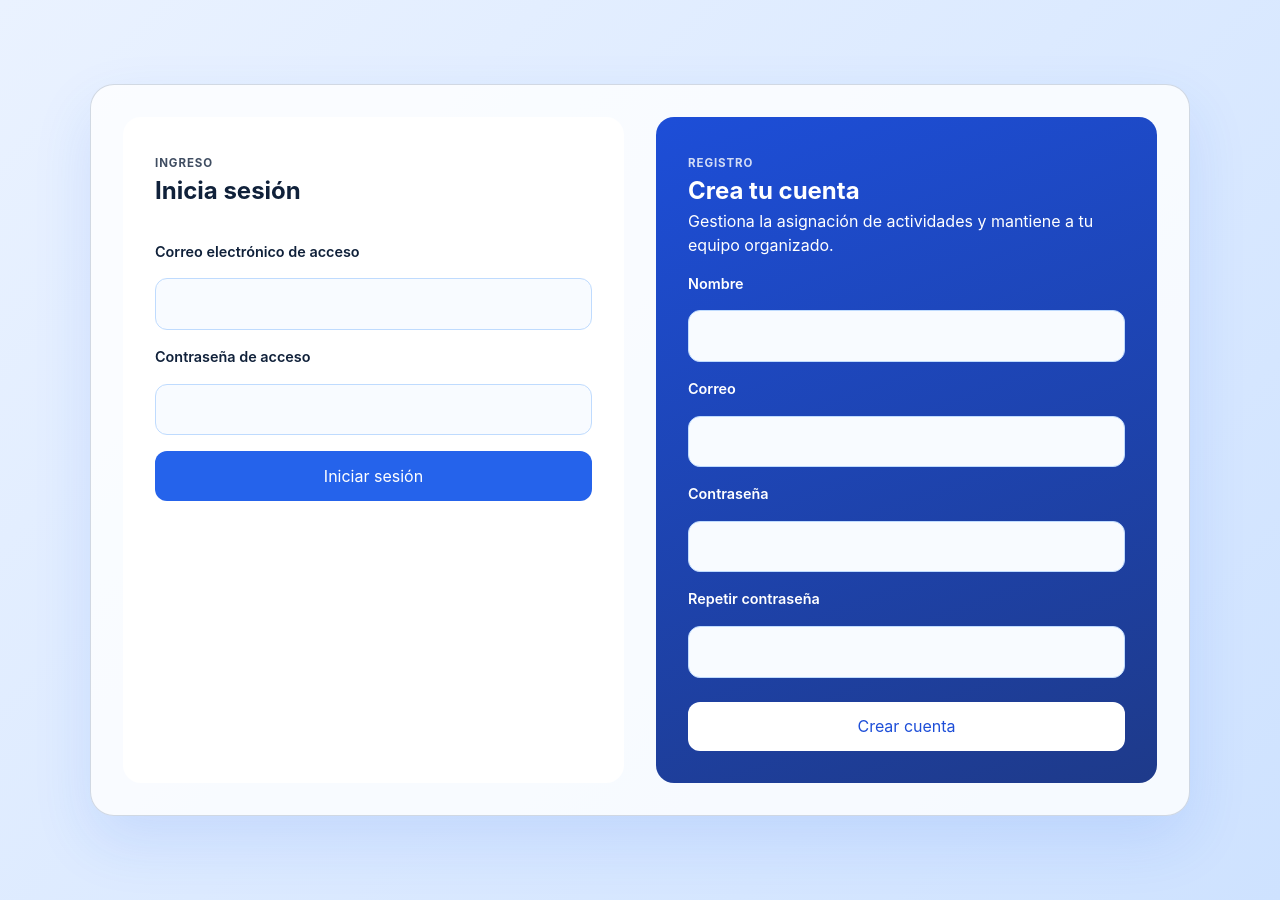
App › confirma un registro válido y limpia el formulario
The image size is (1280, 900).
Type "Ana Pérez" into the field labelled "Nombre" at coordinates (906, 336), box [688,310,1125,362]
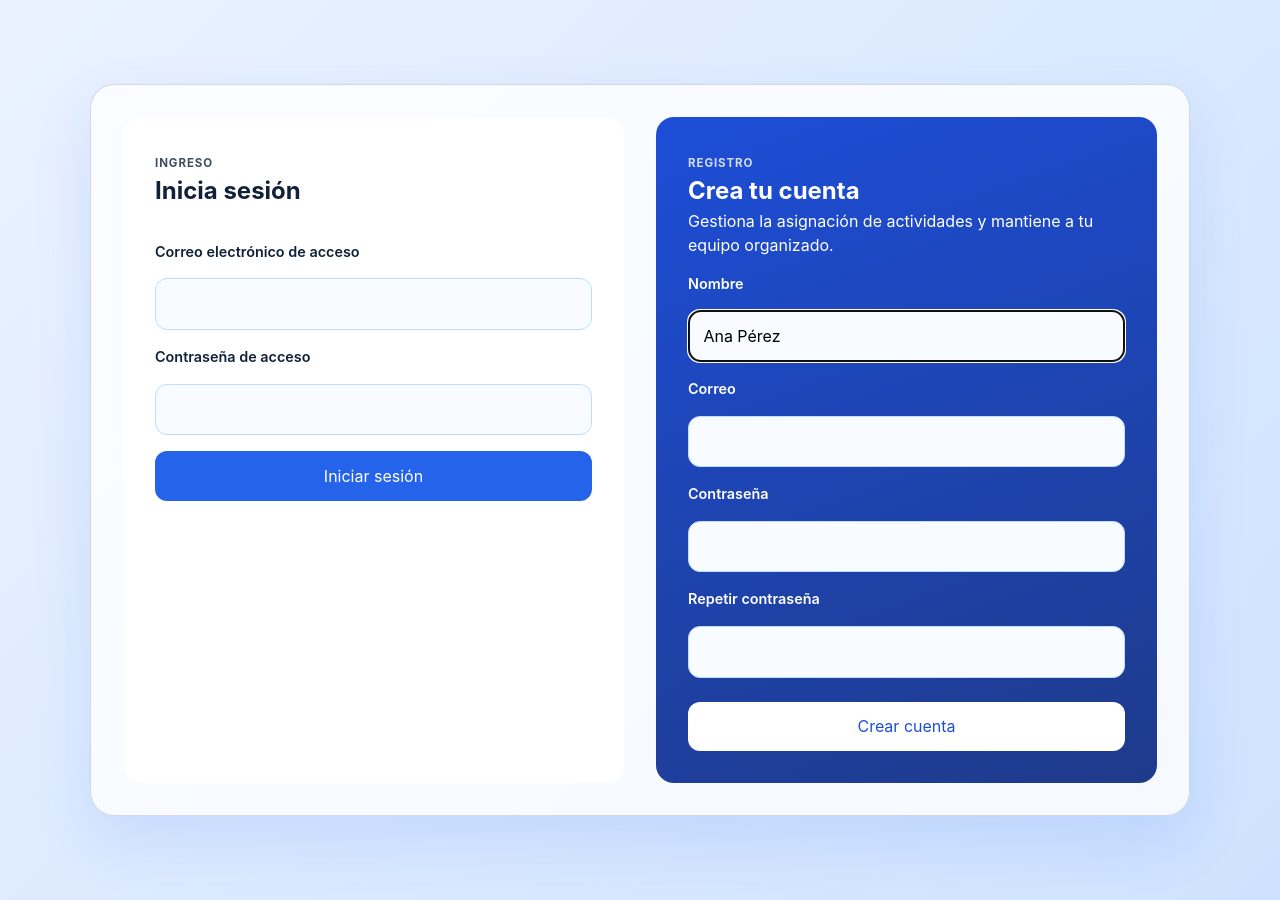
Type "ana@example.com" into the field labelled "Correo" at coordinates (906, 441), box [688,416,1125,467]
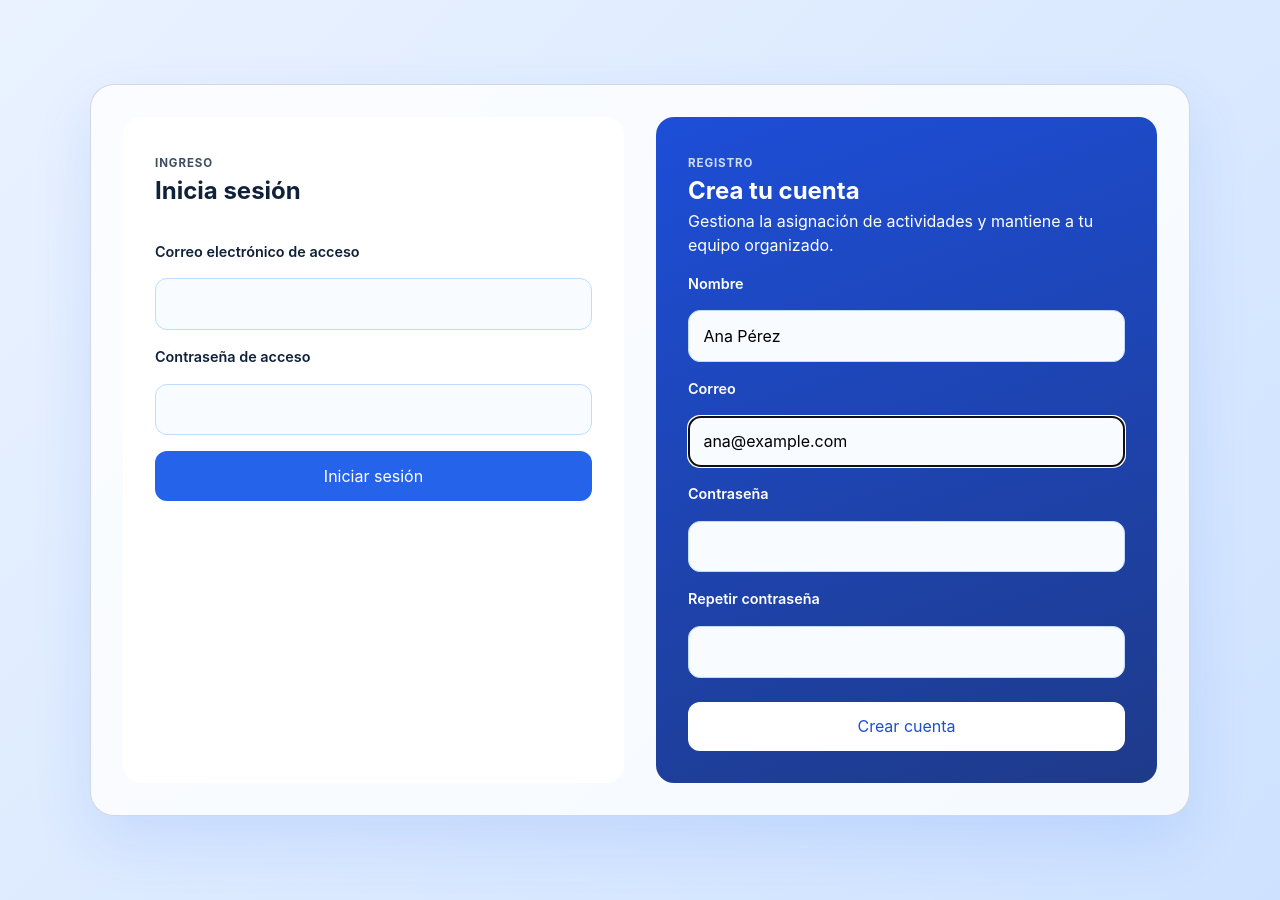
Type "Password123" into the password field labelled "Contraseña" at coordinates (906, 547), box [688,521,1125,572]
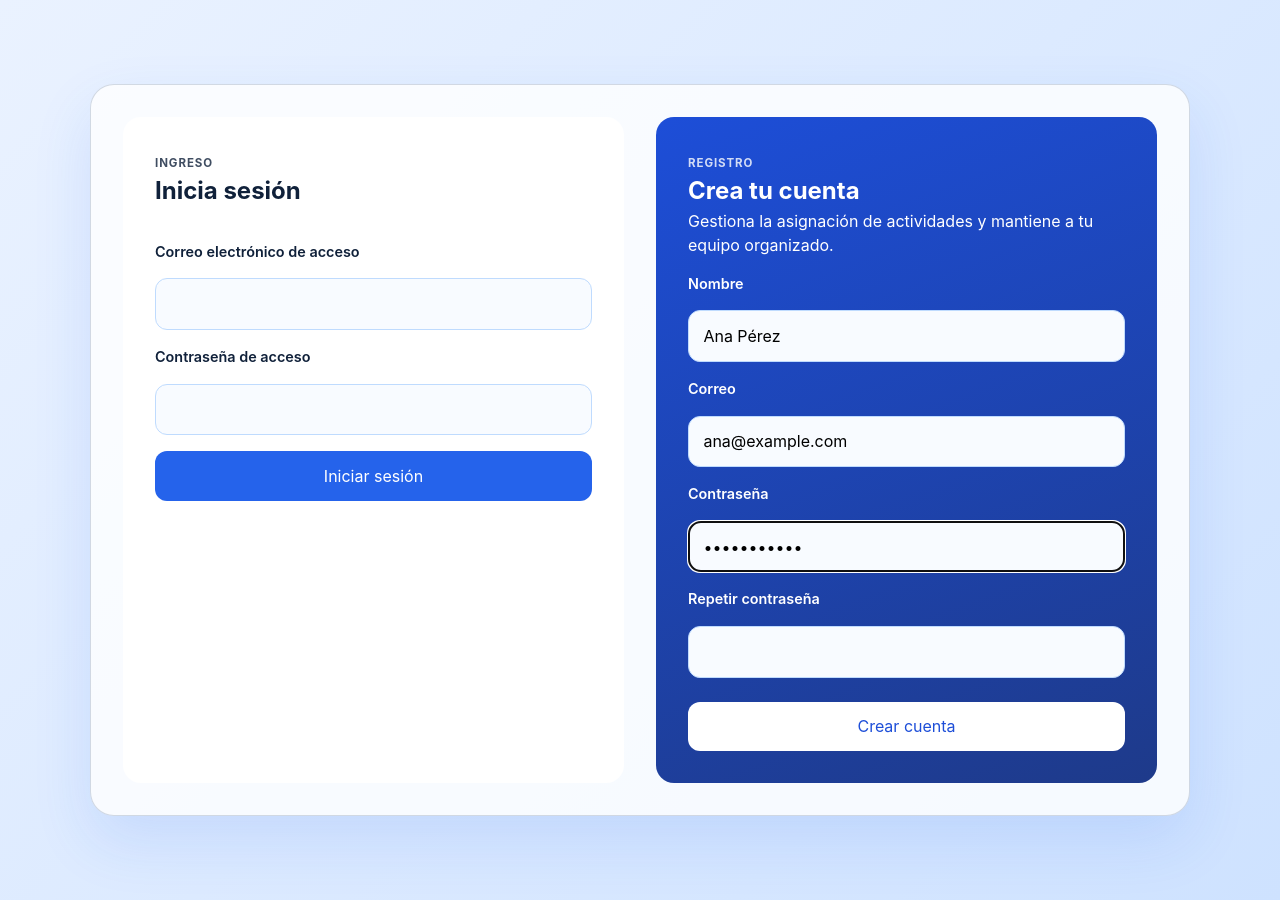
Type "Password123" into the password field labelled "Repetir contraseña" at coordinates (906, 652), box [688,626,1125,678]
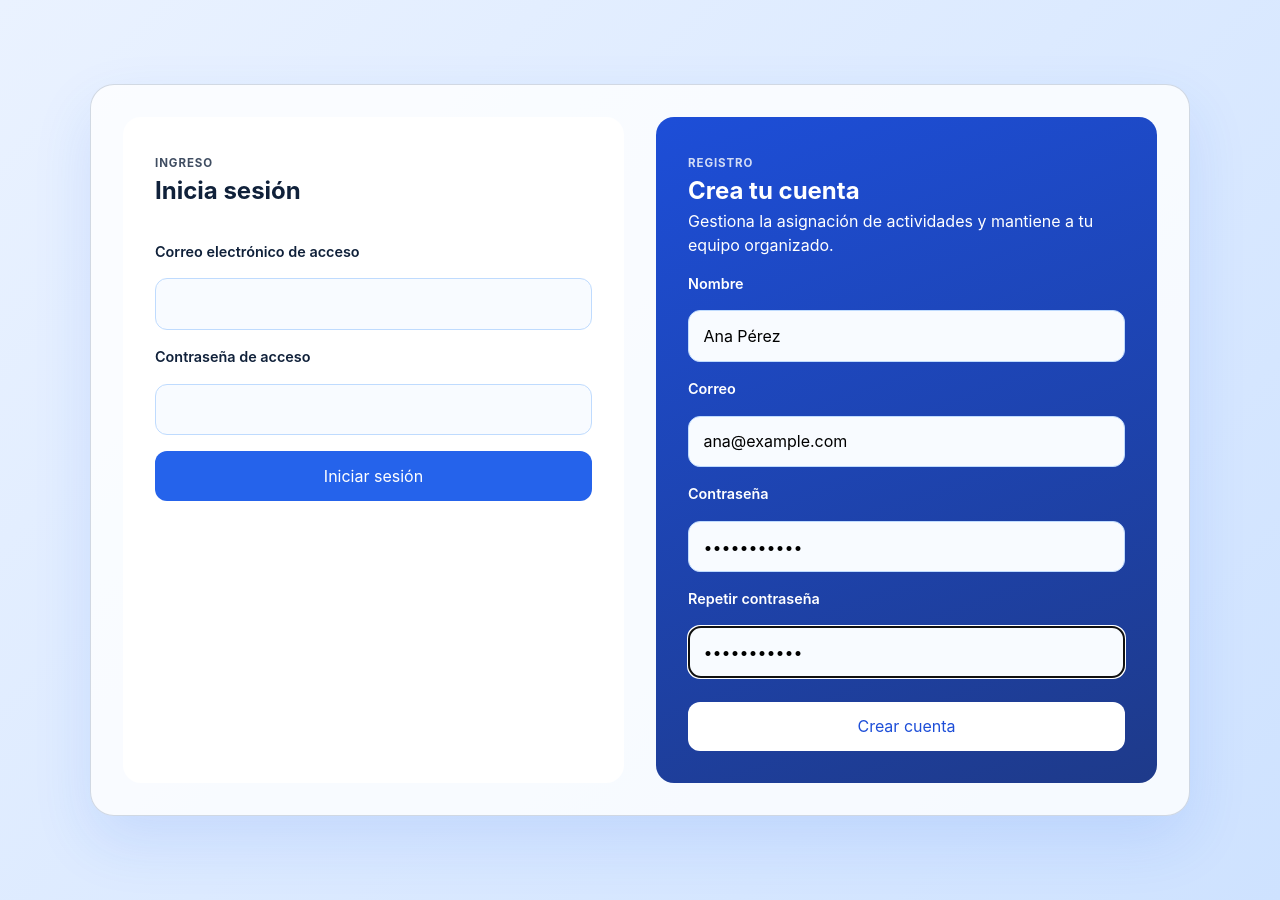
Click the button "Crear cuenta" at coordinates (906, 726), box [688,702,1125,751]
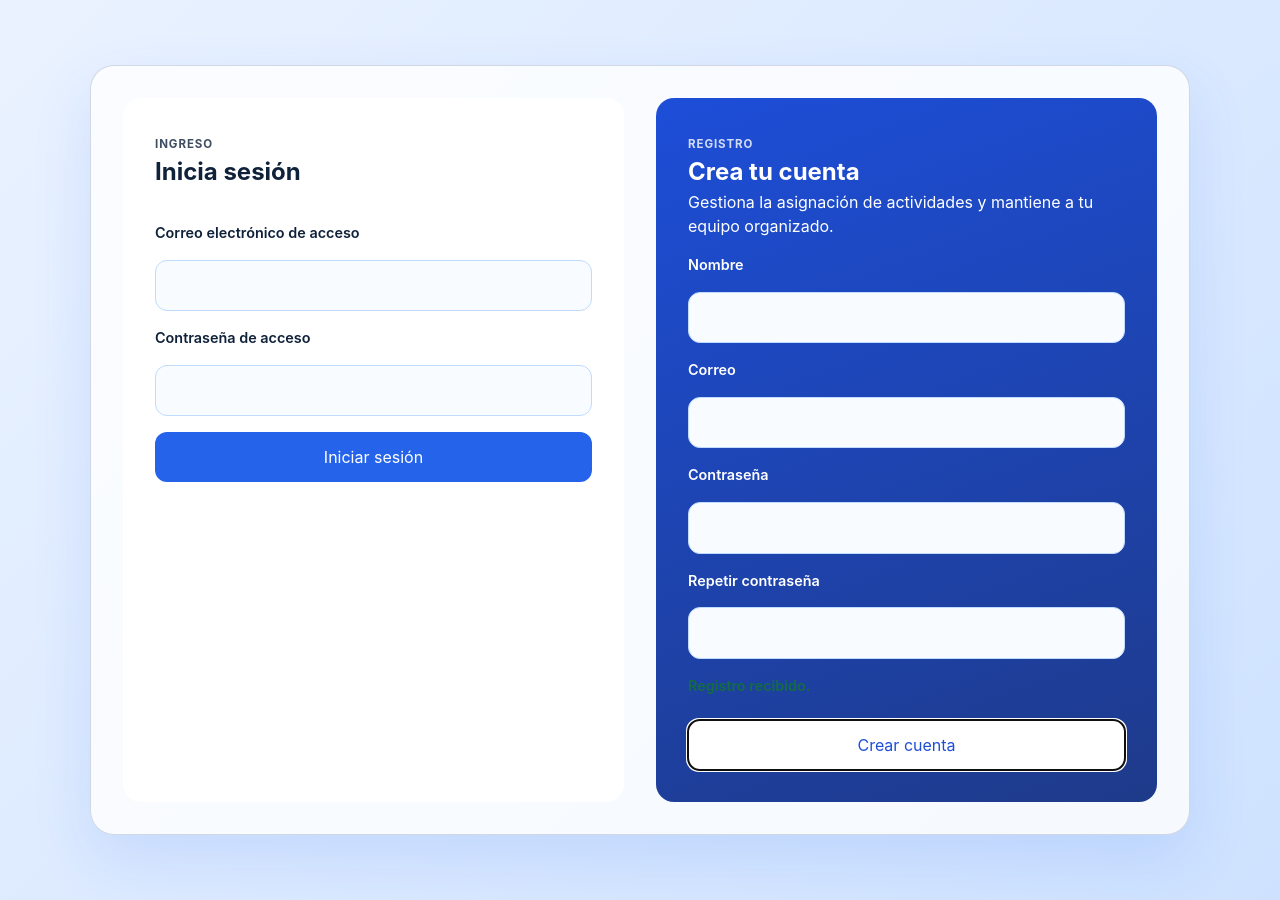
Check: the text "Registro recibido." is shown, box [688,677,810,694]
